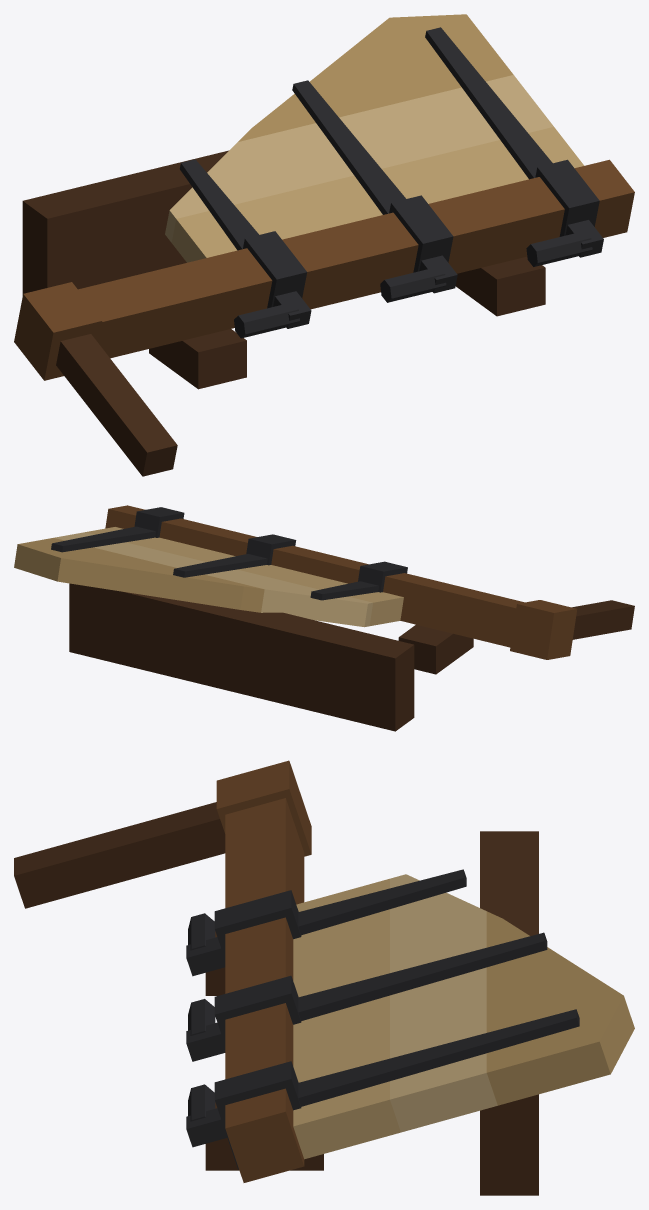
File: gouvernail.glb
The picture shows the model from 3 angles, top to bottom: view 1: azimuth 30°, elevation 25°; view 2: azimuth 150°, elevation 25°; view 3: azimuth 270°, elevation 25°; orthographic projection. The views are drawn at different scales.
Parts seen in each view (by area): view 1: gouvernail; view 2: gouvernail; view 3: gouvernail.
Part boxes in pixels (bbox=[...]): gouvernail: bbox=[14, 14, 634, 476]; gouvernail: bbox=[14, 505, 634, 731]; gouvernail: bbox=[14, 760, 634, 1195].
Bounding box in the file's own units: 0.96 × 0.2432 × 0.7362.
